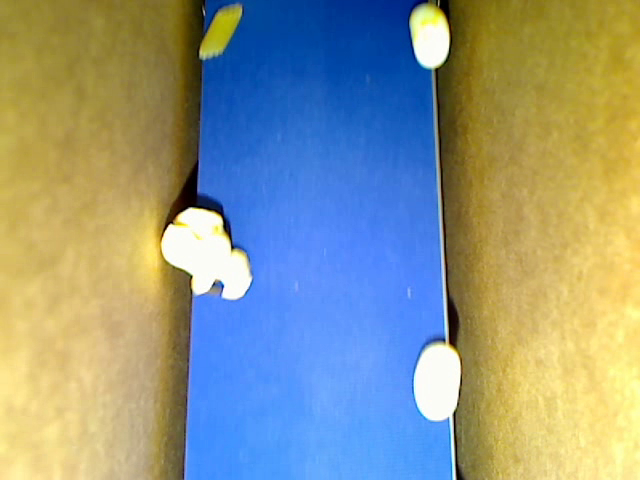penne: (200, 3, 243, 59)
